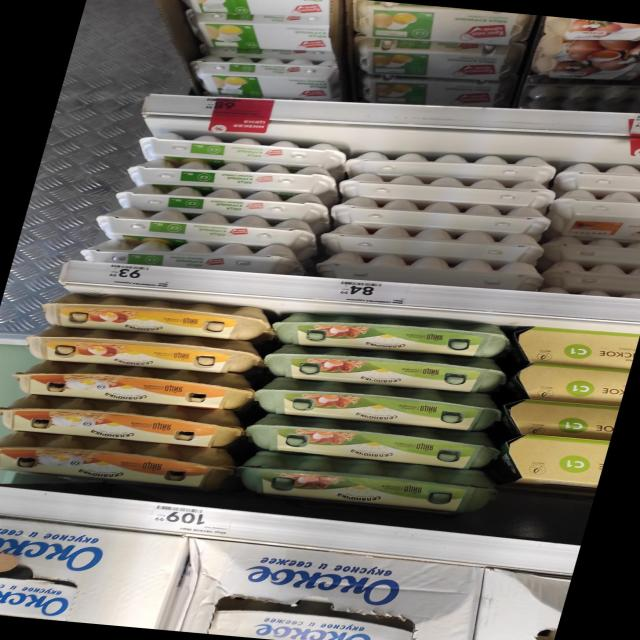organic waste: (228, 450, 508, 520), (0, 428, 241, 496), (240, 411, 508, 472), (0, 390, 252, 452), (3, 354, 260, 414), (251, 373, 508, 433), (261, 340, 514, 396), (17, 322, 269, 378), (34, 289, 278, 345), (268, 308, 515, 363), (92, 202, 320, 253), (77, 231, 310, 280), (122, 152, 338, 202), (112, 177, 334, 225), (344, 0, 540, 51), (134, 126, 345, 172), (182, 51, 352, 105), (349, 35, 523, 86), (206, 602, 421, 640), (181, 9, 338, 57), (531, 29, 639, 92), (357, 72, 515, 115), (164, 0, 334, 23), (0, 572, 79, 621)
